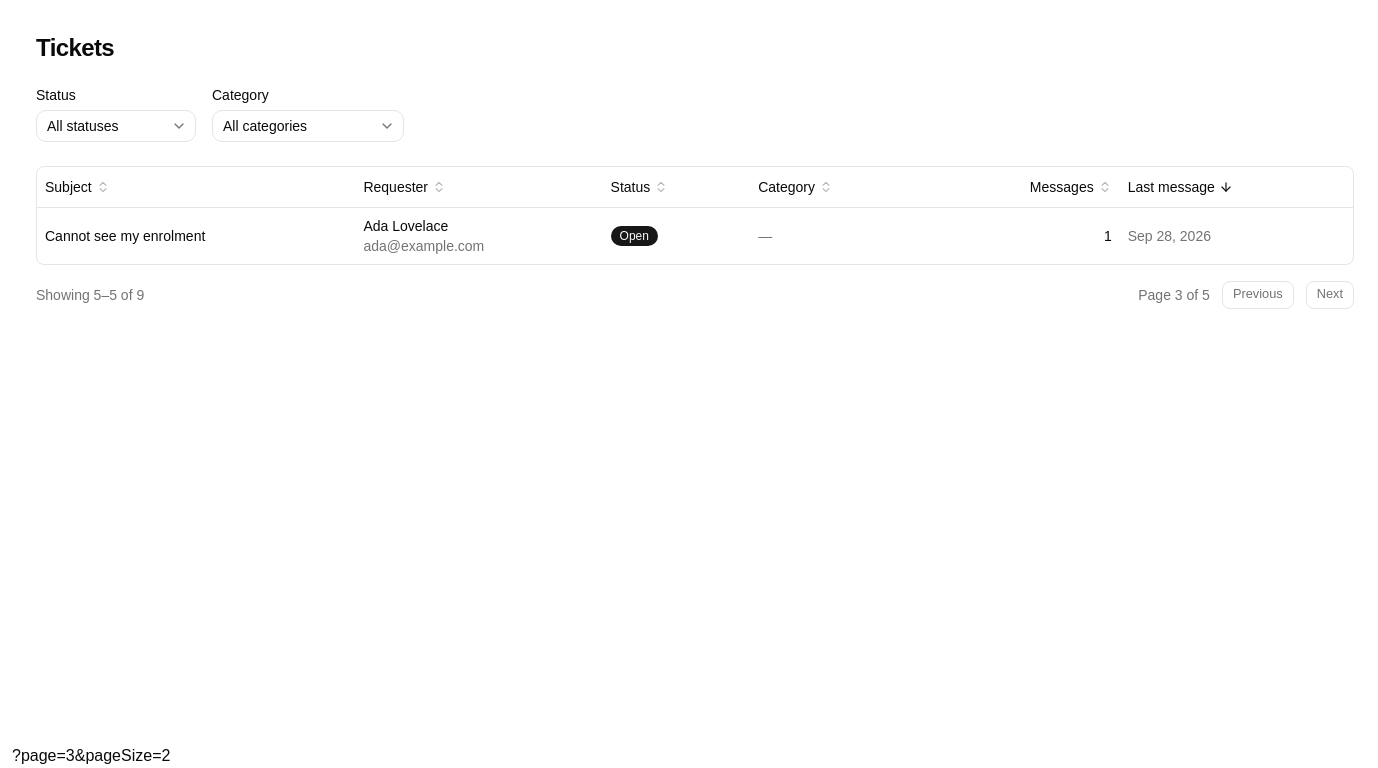
TicketsPage › drops the page when the sort changes
Click the button "Status": click(639, 187) x1=603 y1=173 x2=676 y2=201
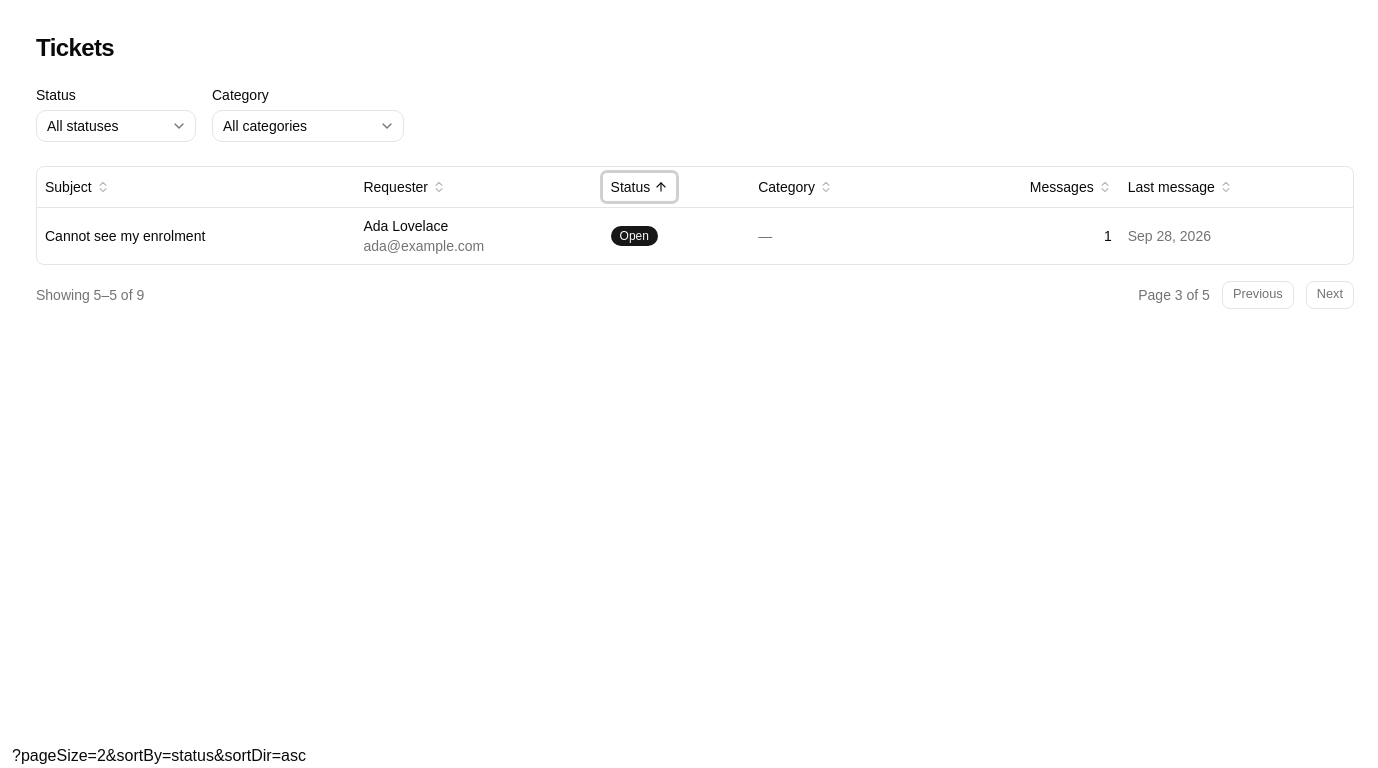
Expected: the text with test id "location-search" reads "?pageSize=2&sortBy=status&sortDir=asc", x1=12 y1=747 x2=306 y2=764
